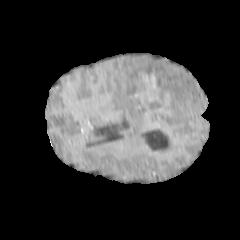glioma: (111, 58, 200, 132)
